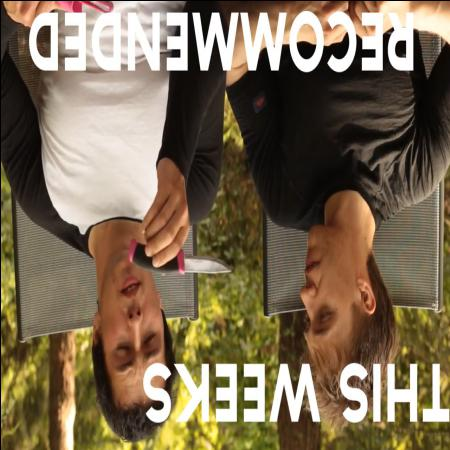long weapon: (120, 222, 236, 287)
